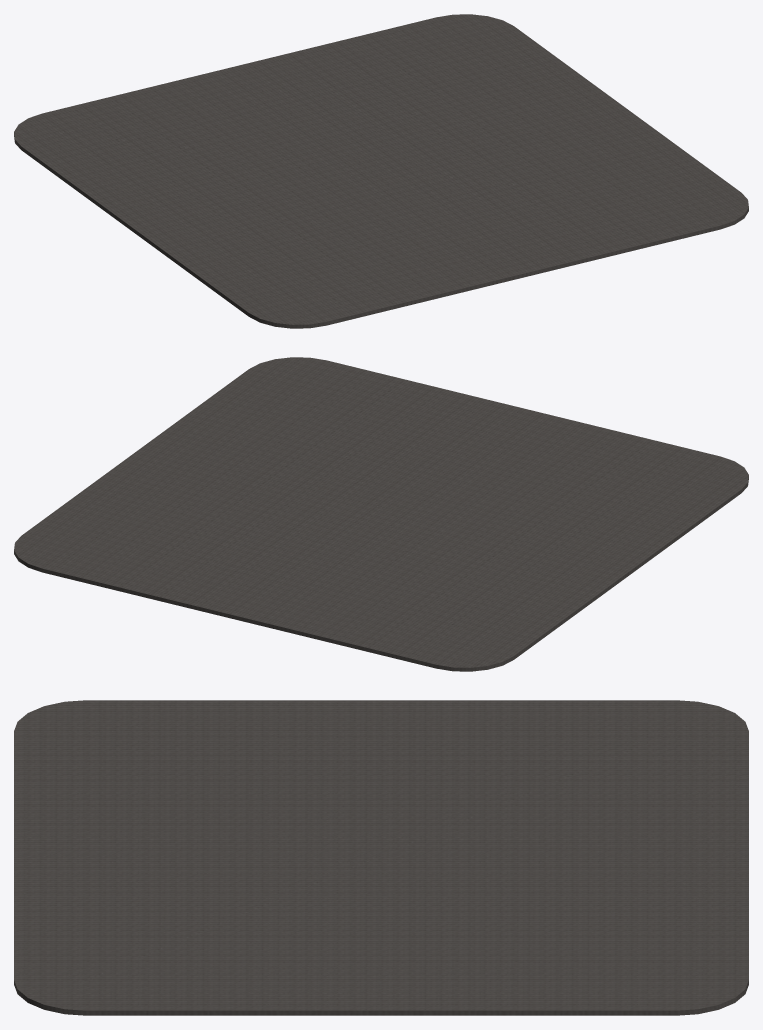
The model's file is mouse_pad.obj.
The picture shows the model from 3 angles, top to bottom: view 1: azimuth 30°, elevation 25°; view 2: azimuth 150°, elevation 25°; view 3: azimuth 270°, elevation 25°; orthographic projection. The views are drawn at different scales.
Parts seen in each view (by area): view 1: mouse_pad; view 2: mouse_pad; view 3: mouse_pad.
Boxes of the visible parts, box(x1,y1,x2,y2) form: mouse_pad: box(14, 14, 748, 328); mouse_pad: box(14, 357, 748, 671); mouse_pad: box(14, 700, 748, 1015).
Size of the model in its own units: 0.2 by 0.0015 by 0.2.
1 material, 1 textured.
